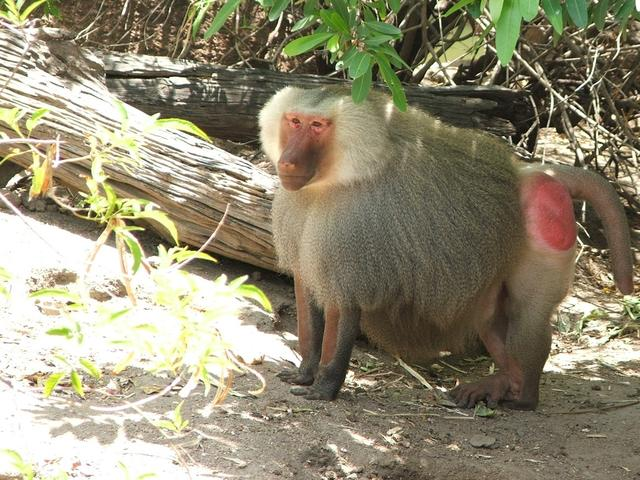monkey: (196, 40, 640, 454)
